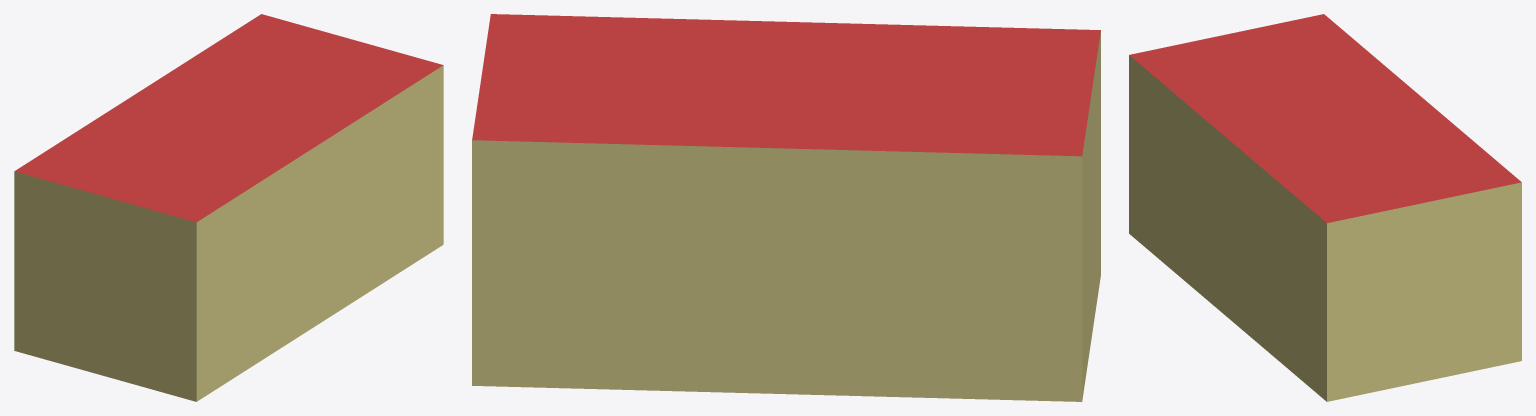
3 renders of one model, left to right at view 1: azimuth 30°, elevation 25°; view 2: azimuth 150°, elevation 25°; view 3: azimuth 270°, elevation 25°, orthographic. The views are drawn at different scales.
Size of the model in its own units: 13.23 by 10.5 by 5.27.
